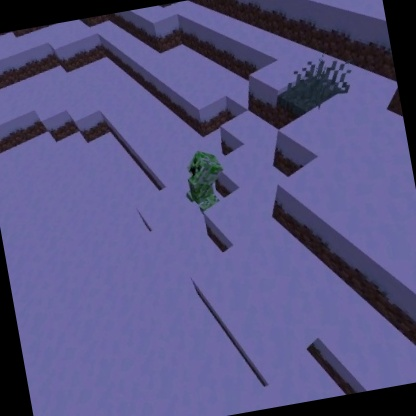creeper: (175, 145, 233, 216)
